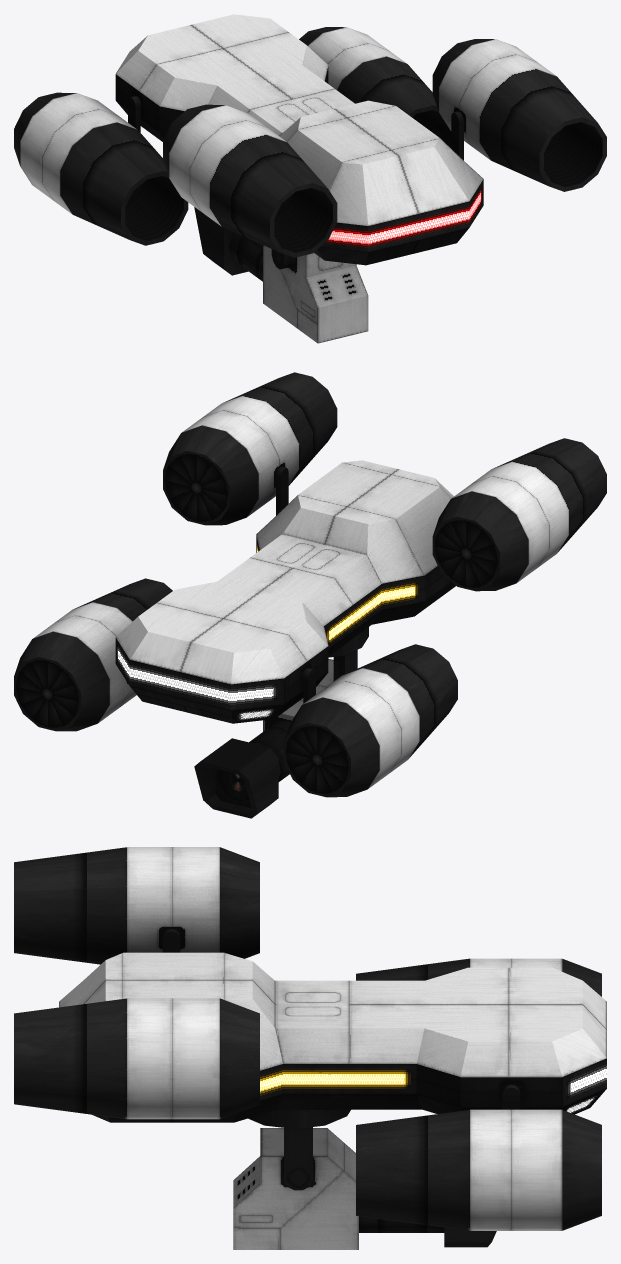
The model's file is camera_drone.glb.
3 renders of one model, top to bottom at view 1: azimuth 30°, elevation 25°; view 2: azimuth 150°, elevation 25°; view 3: azimuth 270°, elevation 25°, orthographic. The views are drawn at different scales.
Parts seen in each view (by area): view 1: drone_Mesh; view 2: drone_Mesh; view 3: drone_Mesh.
Boxes of the visible parts, <box> form: drone_Mesh: <box>14,14,606,343</box>; drone_Mesh: <box>14,372,606,818</box>; drone_Mesh: <box>14,847,606,1249</box>.
Size of the model in its own units: 4.26 by 3.03 by 5.3.
1 material, 1 textured.
